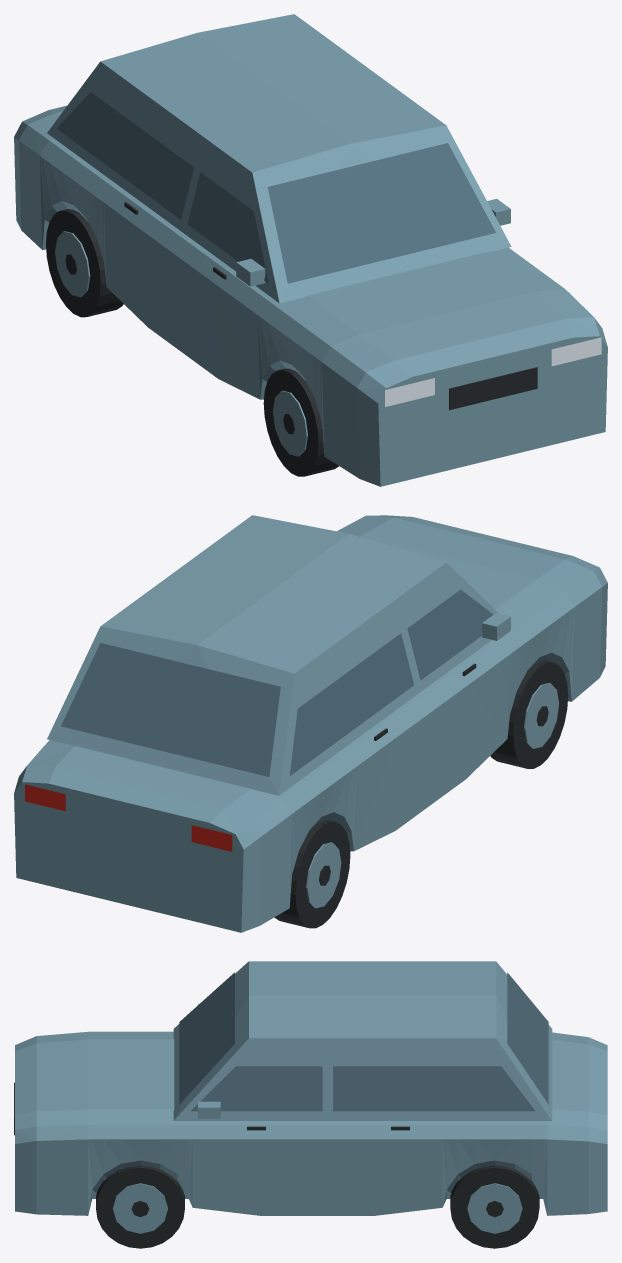
The model's file is traffic-suv.lod0.glb.
The picture shows the model from 3 angles, top to bottom: view 1: azimuth 30°, elevation 25°; view 2: azimuth 150°, elevation 25°; view 3: azimuth 270°, elevation 25°; orthographic projection. The views are drawn at different scales.
Parts seen in each view (by area): view 1: body-shell, glass, wheel-rear-right, wheel-front-right, trim; view 2: body-shell, glass, wheel-front-right, wheel-rear-right; view 3: body-shell, glass, wheel-rear-left, wheel-front-left.
Part boxes in pixels (bbox=[...]): body-shell: bbox=[14, 14, 607, 486]; glass: bbox=[56, 92, 601, 406]; wheel-rear-right: bbox=[46, 209, 123, 317]; wheel-front-right: bbox=[263, 368, 338, 476]; trim: bbox=[124, 202, 537, 410]; body-shell: bbox=[14, 515, 607, 932]; glass: bbox=[25, 589, 493, 851]; wheel-front-right: bbox=[490, 660, 568, 768]; wheel-rear-right: bbox=[274, 820, 350, 928]; body-shell: bbox=[15, 961, 607, 1215]; glass: bbox=[179, 972, 548, 1111]; wheel-rear-left: bbox=[450, 1165, 539, 1248]; wheel-front-left: bbox=[96, 1165, 184, 1248].
Bounding box in the file's own units: 1.92 × 1.76 × 4.66.
